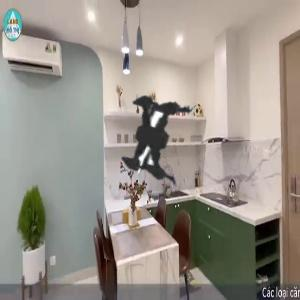drone: (15, 13, 281, 279)
